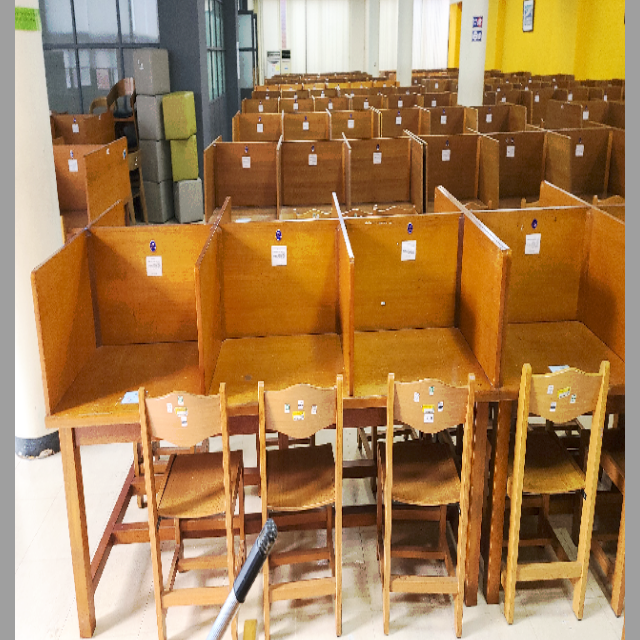empty: (55, 222, 202, 495), (359, 225, 493, 491), (221, 225, 353, 486)
